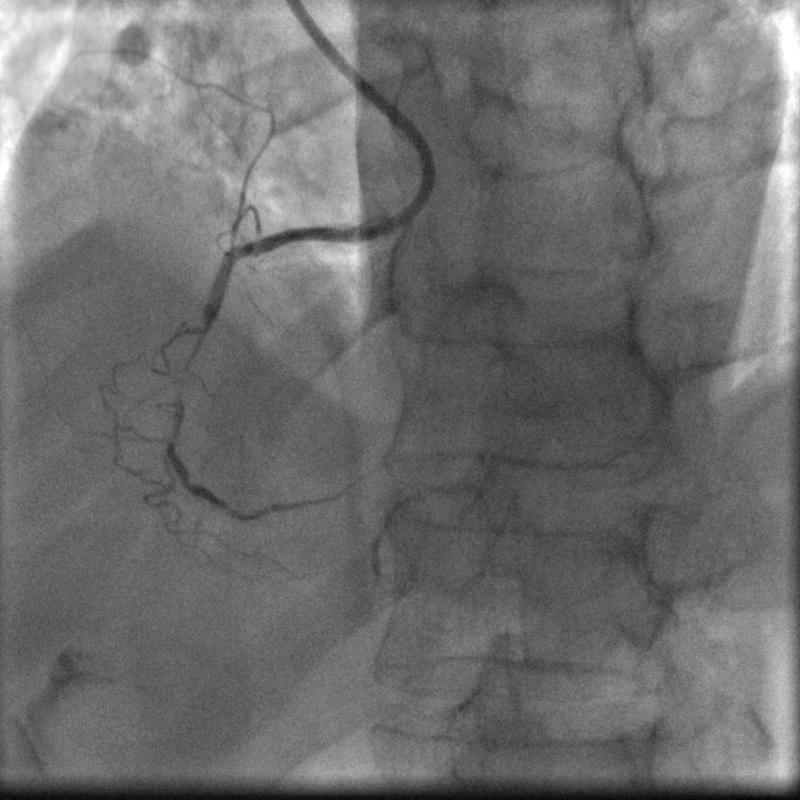Stenosis: (163, 309, 215, 419)
